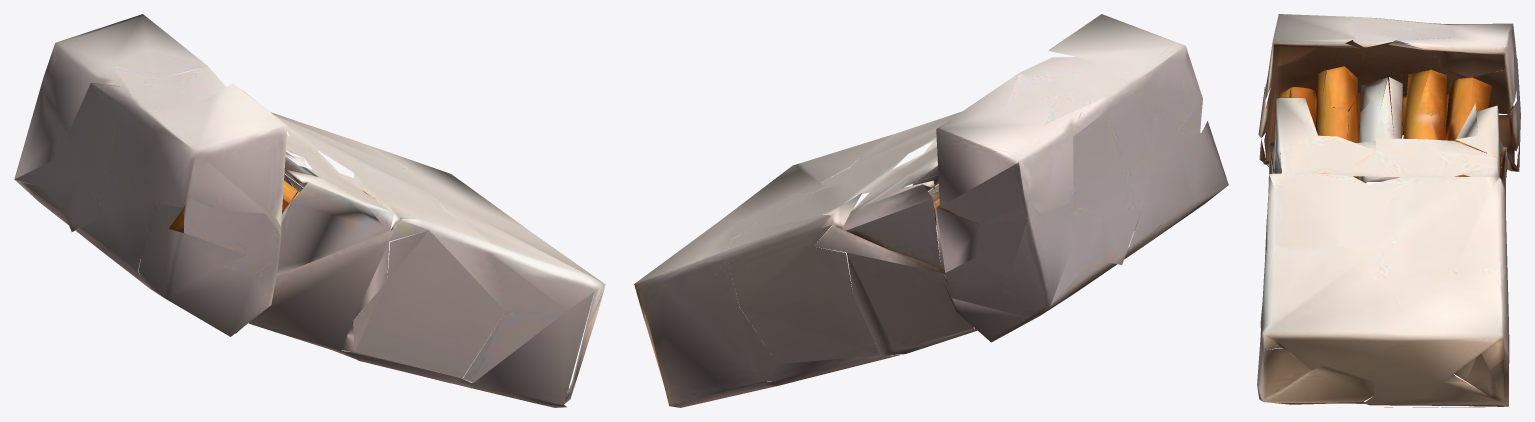
File: smokes.glb
The picture shows the model from 3 angles, left to right: view 1: azimuth 30°, elevation 25°; view 2: azimuth 150°, elevation 25°; view 3: azimuth 270°, elevation 25°; orthographic projection. The views are drawn at different scales.
Parts seen in each view (by area): view 1: item; view 2: item; view 3: item.
Part boxes in pixels (<box>): item: <box>14,14,605,407</box>; item: <box>634,14,1228,407</box>; item: <box>1257,14,1520,407</box>.
Size of the model in its own units: 0.0899 by 0.0687 by 0.0613.
1 material, 1 textured.
